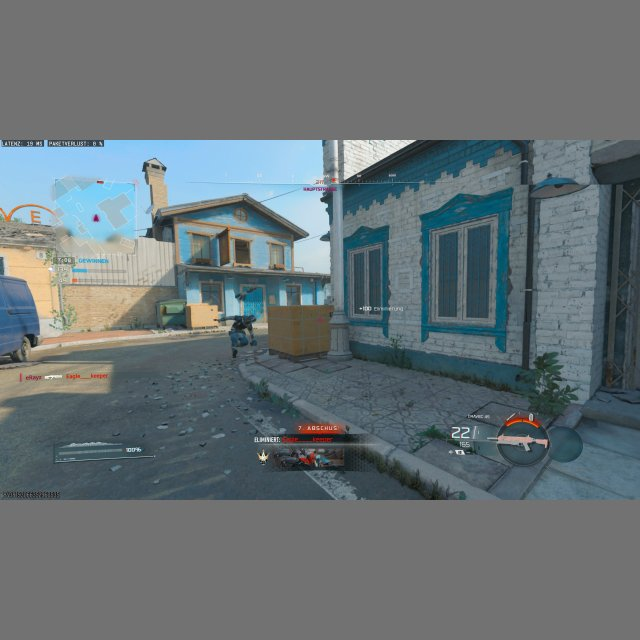player: (229, 313, 258, 358)
